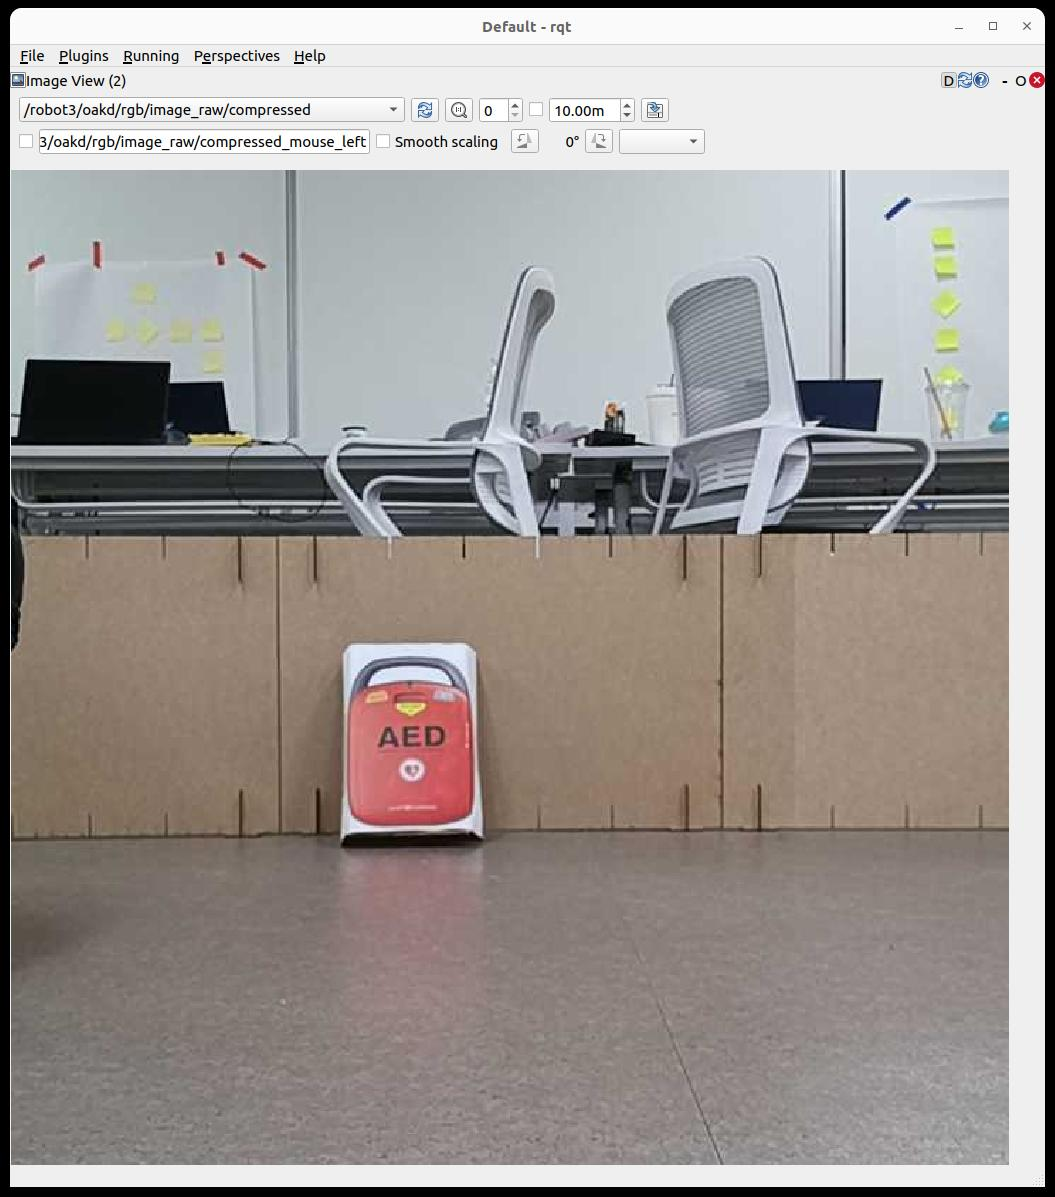AED: (342, 642, 482, 842)
